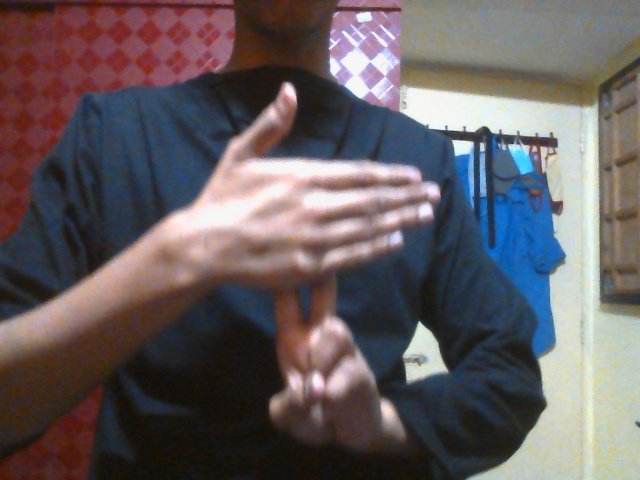N: (213, 78, 436, 454)
